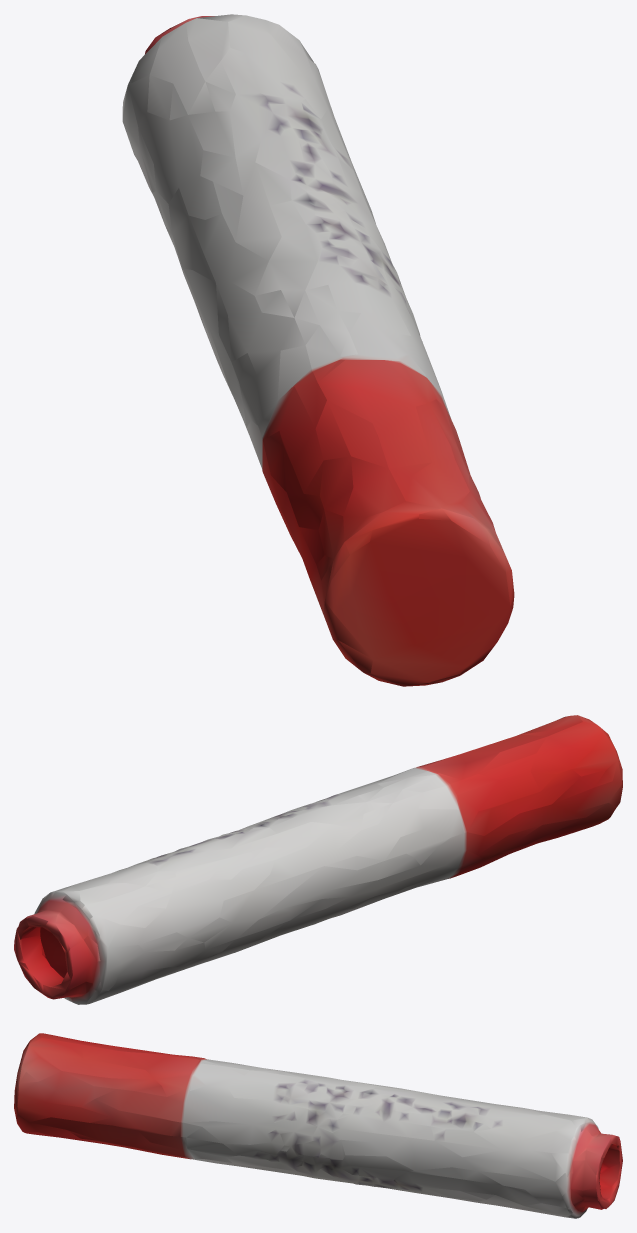
The model's file is 0018_mask_019_red_marker.glb.
The picture shows the model from 3 angles, top to bottom: view 1: azimuth 30°, elevation 25°; view 2: azimuth 150°, elevation 25°; view 3: azimuth 270°, elevation 25°; orthographic projection. The views are drawn at different scales.
Parts seen in each view (by area): view 1: mask_019_object; view 2: mask_019_object; view 3: mask_019_object.
Part boxes in pixels (x1,y1,x2,y2): mask_019_object: (122,14,514,686); mask_019_object: (14,715,622,1004); mask_019_object: (14,1033,622,1218).
Size of the model in its own units: 0.1013 by 0.0354 by 0.2074.
